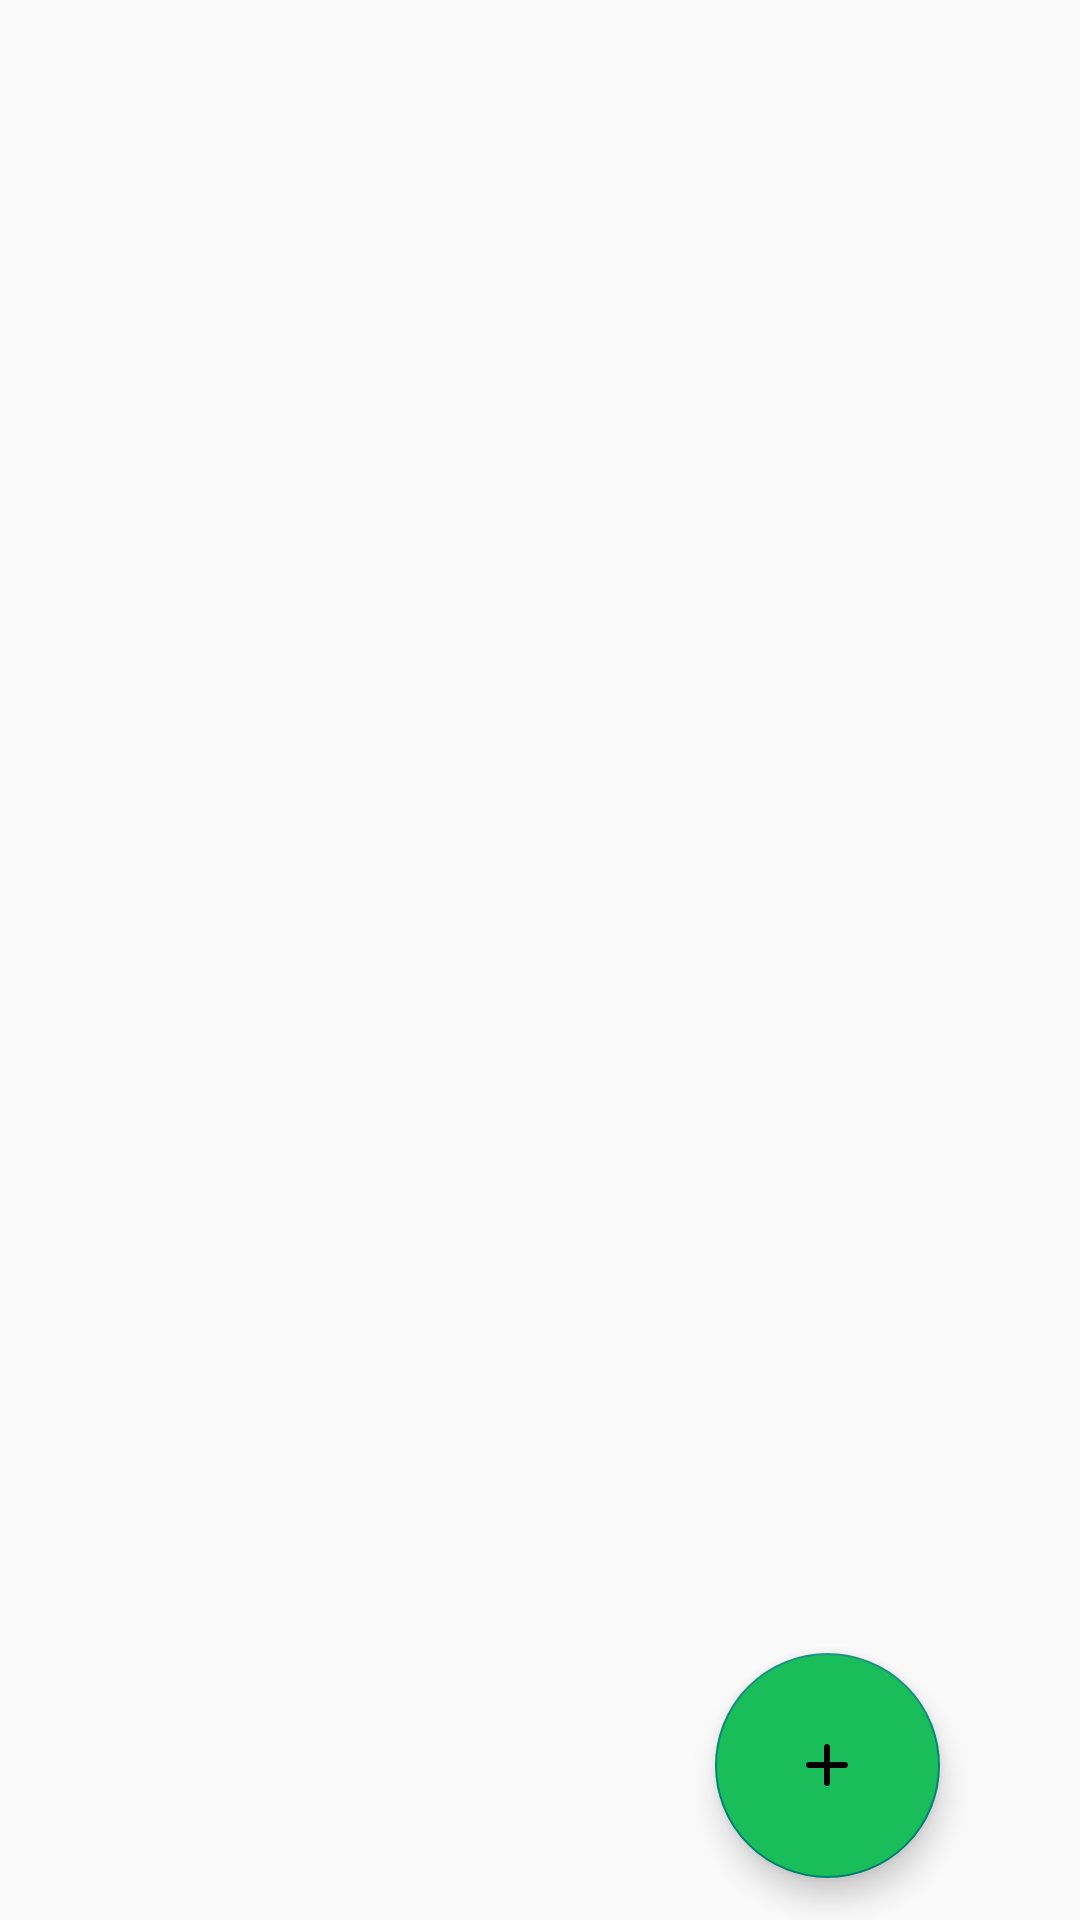

Where to tap for icons on this 1080×1920 app screen, as (x,y):
add: (827,1765)
